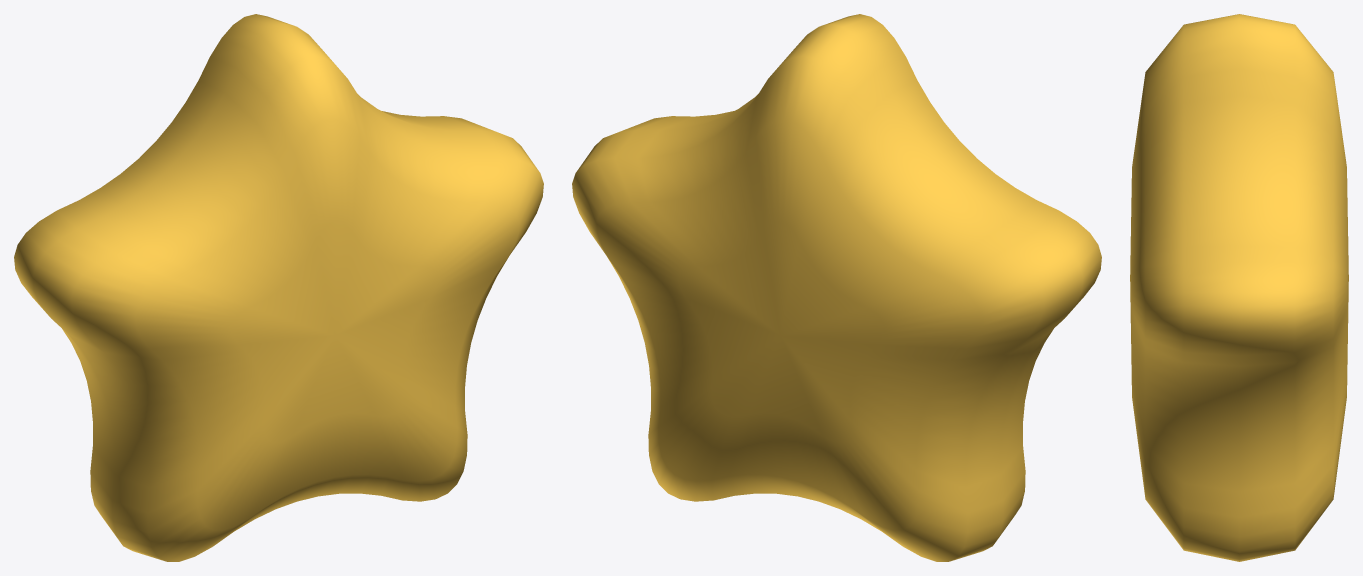
The model's file is BE_PowerStarBubbly_Body.fbx.
3 renders of one model, left to right at view 1: azimuth 30°, elevation 25°; view 2: azimuth 150°, elevation 25°; view 3: azimuth 270°, elevation 25°, orthographic. The views are drawn at different scales.
Visible parts, largest first — view 1: BE_PowerStar_Bubbly_Body; view 2: BE_PowerStar_Bubbly_Body; view 3: BE_PowerStar_Bubbly_Body.
Boxes of the visible parts, left/top/right/bottom form: BE_PowerStar_Bubbly_Body: left=14, top=14, right=543, bottom=561; BE_PowerStar_Bubbly_Body: left=572, top=14, right=1101, bottom=561; BE_PowerStar_Bubbly_Body: left=1130, top=14, right=1348, bottom=561.
Size of the model in its own units: 287 by 275 by 114.
